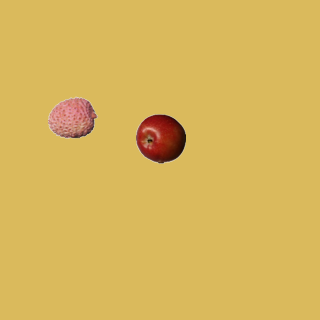Apple Braeburn: (135, 113, 185, 163)
Lychee: (47, 92, 97, 142)
